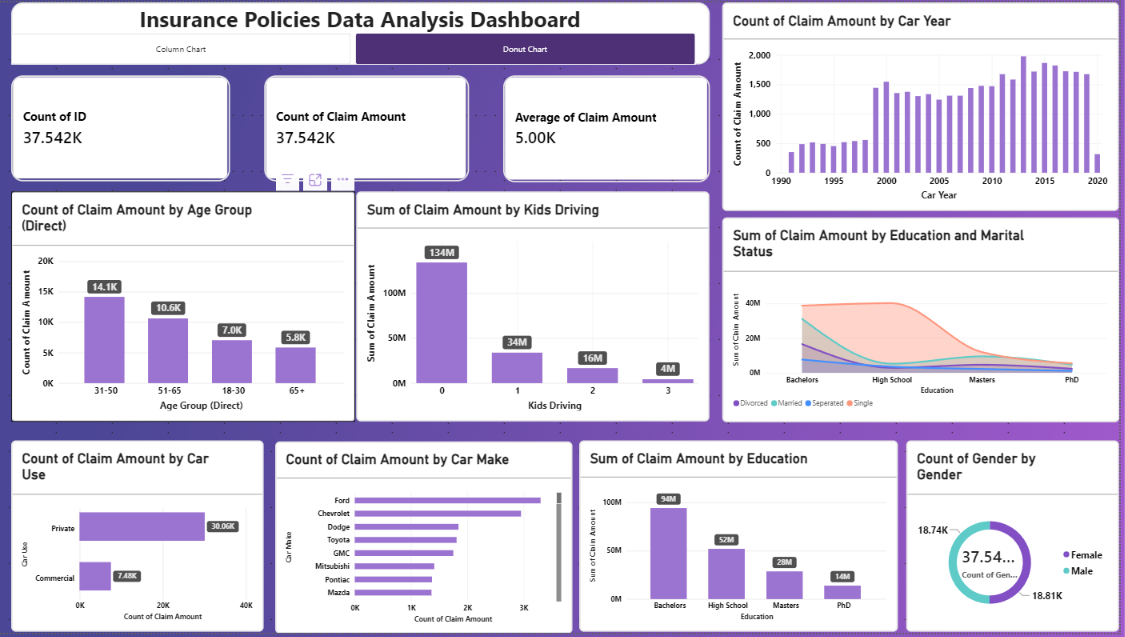

The page's visual inventory and layout, read from the dashboard file:
{"tool":"powerbi","page":{"name":"Page 1","canvas":[1920,1080],"ordinal":0},"visuals":[{"type":"cardVisual","fields":{"Data":["CountNonNull(insurance_data_car.ID)"]},"box":[20.9,125.7,375.3,181.5],"z":0},{"type":"cardVisual","fields":{"Data":["CountNonNull(insurance_data_car.Claim Amount)"]},"box":[453.8,125.7,350.8,181.5],"z":1000},{"type":"cardVisual","fields":{"Data":["Avg(insurance_data_car.Claim Amount)"]},"box":[864,125.7,354.3,183.3],"z":2000},{"type":"barChart","fields":{"Category":["insurance_data_car.Car Use"],"Y":["CountNonNull(insurance_data_car.Claim Amount)"]},"box":[20.9,750.5,432.9,328.1],"z":3000},{"type":"clusteredBarChart","fields":{"Category":["insurance_data_car.Car Make"],"Y":["CountNonNull(insurance_data_car.Claim Amount)"]},"box":[473,752.3,509.7,329.9],"z":4000},{"type":"clusteredColumnChart","fields":{"Category":["insurance_data_car.Car Year"],"Y":["CountNonNull(insurance_data_car.Claim Amount)"]},"box":[1239.9,0,680.1,358],"z":5000},{"type":"clusteredColumnChart","fields":{"Category":["insurance_data_car.Kids Driving"],"Y":["Sum(insurance_data_car.Claim Amount)"]},"box":[612.7,324.7,605.7,394.5],"z":6000},{"type":"clusteredColumnChart","fields":{"Category":["insurance_data_car.Education"],"Y":["Sum(insurance_data_car.Claim Amount)"]},"box":[994.9,750.5,546.3,328.1],"z":7000},{"type":"areaChart","fields":{"Category":["insurance_data_car.Education"],"Series":["insurance_data_car.Marital Status"],"Y":["Sum(insurance_data_car.Claim Amount)"]},"box":[1239.3,368.3,680.7,350.8],"z":8000},{"type":"donutChart","fields":{"Category":["insurance_data_car.Gender"],"Y":["CountNonNull(insurance_data_car.Gender)"]},"box":[1555.2,750.5,364.8,328.1],"z":9000},{"type":"clusteredColumnChart","fields":{"Category":["insurance_data_car.Age Group (Direct)"],"Y":["CountNonNull(insurance_data_car.Claim Amount)"]},"box":[20.9,324.7,590,394.5],"z":10000},{"type":"textbox","box":[20.9,0,1197.4,106.5],"z":11000},{"type":"bookmarkNavigator","box":[21.3,53.3,1173.3,53.3],"z":11001}]}

Visuals, with their boxes in screenshot pixels (x1, y1, x2, y2), scaled from the page's 1920x1080 canvas onto the 1125x637 screenshot:
cardVisual - CountNonNull(insurance_data_car.ID): (left=12, top=74, right=232, bottom=181)
cardVisual - CountNonNull(insurance_data_car.Claim Amount): (left=266, top=74, right=471, bottom=181)
cardVisual - Avg(insurance_data_car.Claim Amount): (left=506, top=74, right=714, bottom=182)
barChart - insurance_data_car.Car Use x CountNonNull(insurance_data_car.Claim Amount): (left=12, top=443, right=266, bottom=636)
clusteredBarChart - insurance_data_car.Car Make x CountNonNull(insurance_data_car.Claim Amount): (left=277, top=444, right=576, bottom=636)
clusteredColumnChart - insurance_data_car.Car Year x CountNonNull(insurance_data_car.Claim Amount): (left=727, top=0, right=1124, bottom=211)
clusteredColumnChart - insurance_data_car.Kids Driving x Sum(insurance_data_car.Claim Amount): (left=359, top=192, right=714, bottom=424)
clusteredColumnChart - insurance_data_car.Education x Sum(insurance_data_car.Claim Amount): (left=583, top=443, right=903, bottom=636)
areaChart - insurance_data_car.Education x insurance_data_car.Marital Status: (left=726, top=217, right=1124, bottom=424)
donutChart - insurance_data_car.Gender x CountNonNull(insurance_data_car.Gender): (left=911, top=443, right=1124, bottom=636)
clusteredColumnChart - insurance_data_car.Age Group (Direct) x CountNonNull(insurance_data_car.Claim Amount): (left=12, top=192, right=358, bottom=424)
textbox: (left=12, top=0, right=714, bottom=63)
bookmarkNavigator: (left=12, top=31, right=700, bottom=63)
